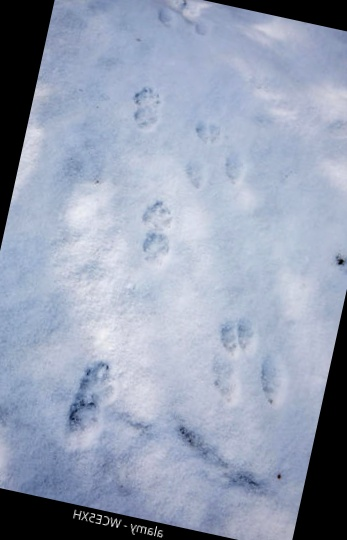fox: (40, 348, 134, 465), (113, 184, 197, 280), (171, 106, 255, 202), (118, 77, 172, 144)
